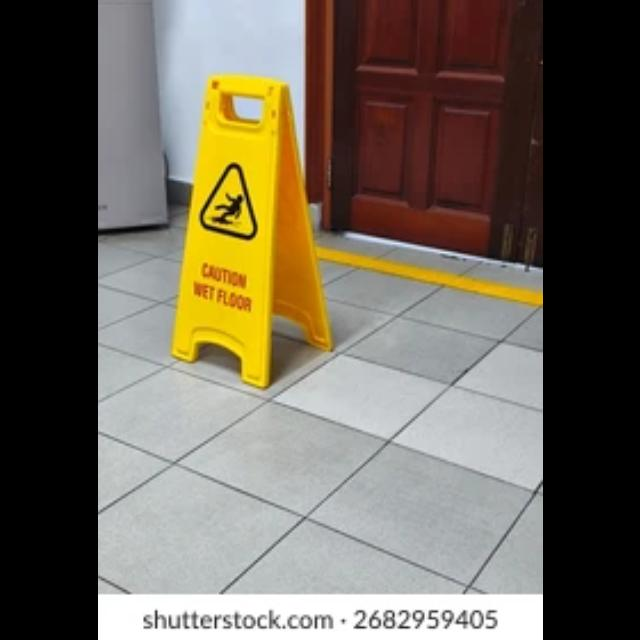slippery_floor: (170, 80, 330, 386)
